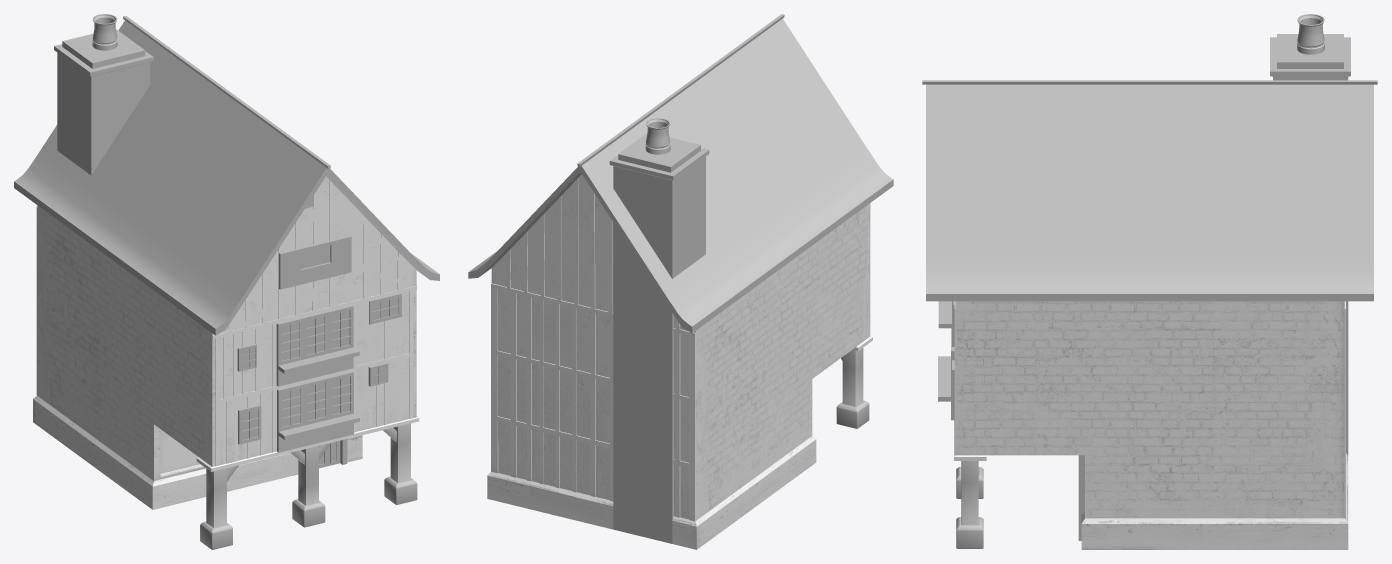
The model's file is JueunHouse.fbx.
3 renders of one model, left to right at view 1: azimuth 30°, elevation 25°; view 2: azimuth 150°, elevation 25°; view 3: azimuth 270°, elevation 25°, orthographic. The views are drawn at different scales.
Parts seen in each view (by area): view 1: house002, Chimney001, AllWindow001, column005; view 2: house002, Chimney001, column005; view 3: Chimney001, house002, column005, AllWindow001.
Part boxes in pixels (x1,y1,x2,y2): house002: (33, 176, 419, 509); Chimney001: (14, 14, 439, 468); AllWindow001: (237, 195, 401, 452); column005: (200, 423, 417, 549); house002: (487, 174, 872, 549); Chimney001: (468, 14, 893, 543); column005: (836, 348, 869, 428); Chimney001: (922, 14, 1377, 540); house002: (954, 301, 1348, 549); column005: (956, 461, 983, 548); AllWindow001: (938, 301, 954, 420).
Bounding box in the file's own units: 817 × 1399 × 1293.
